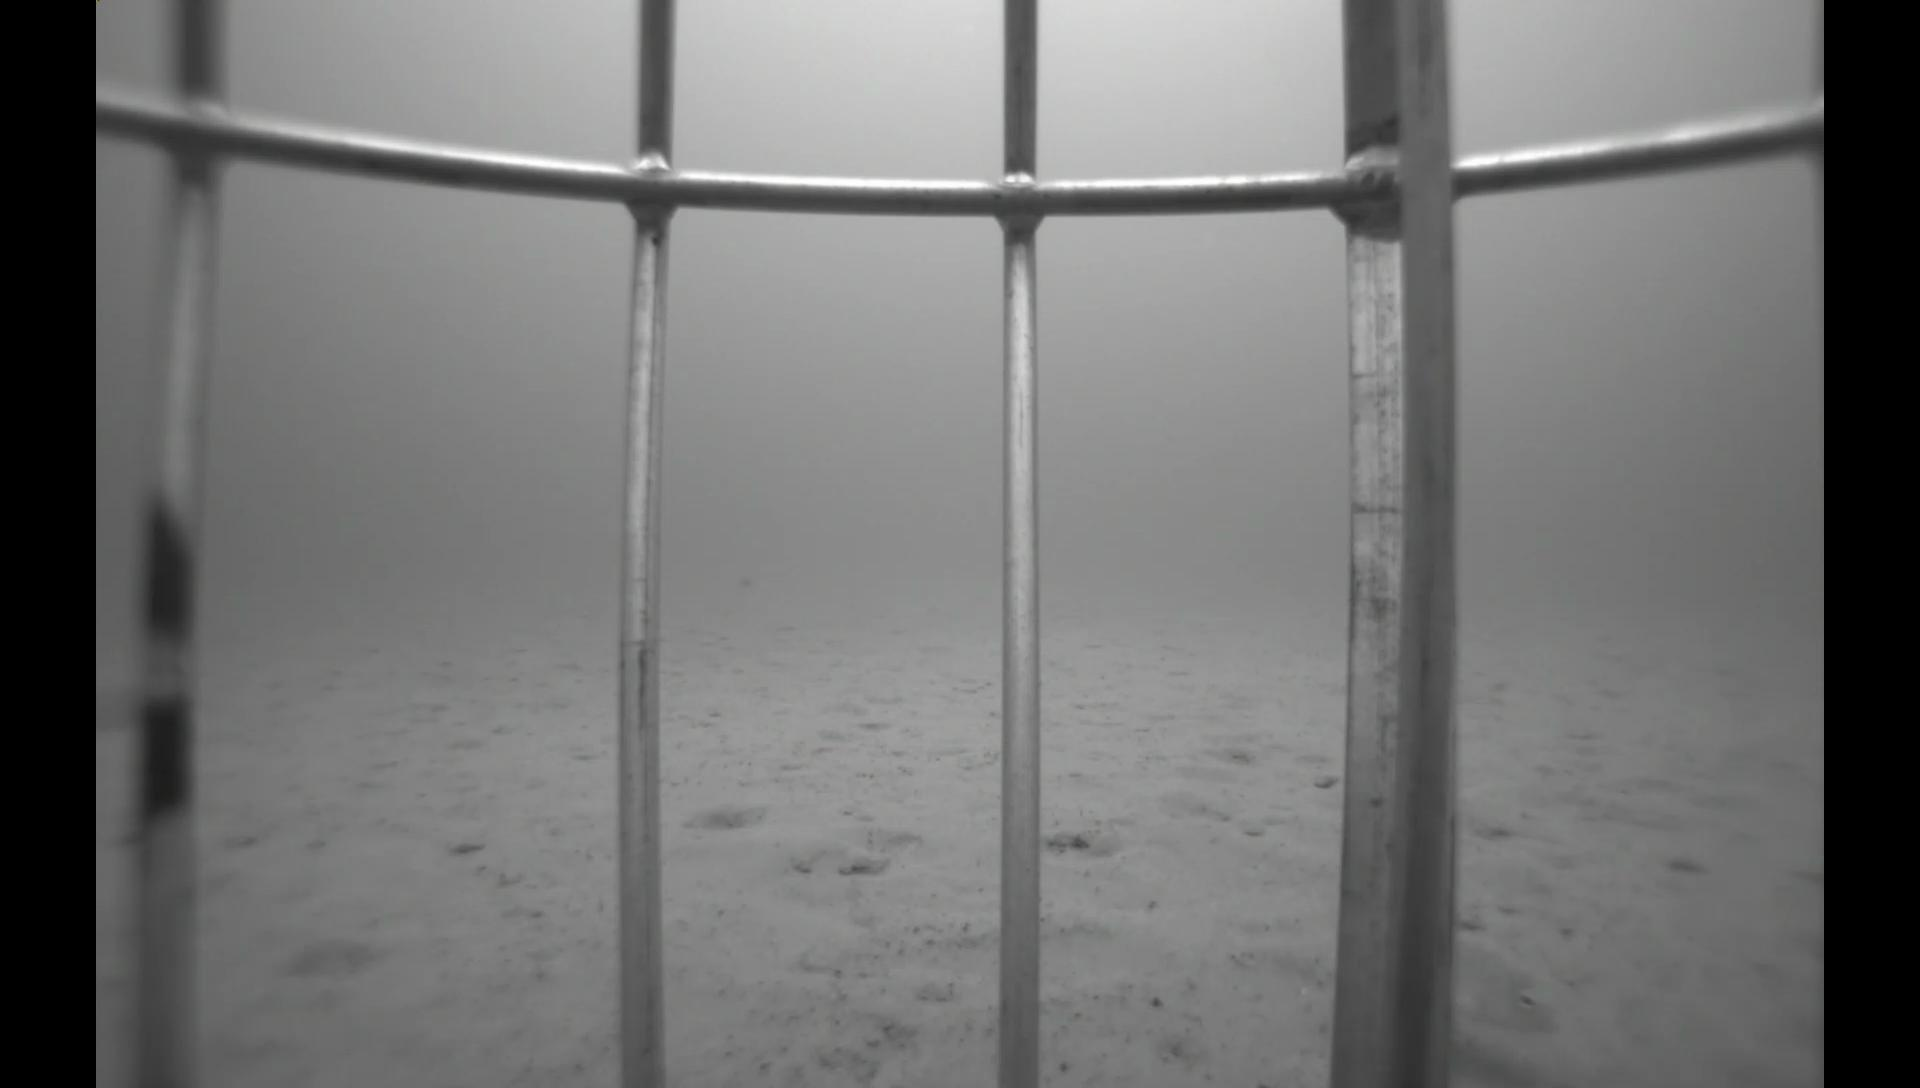CAULOLATILUSCYANOPS-170070101: (1456, 669, 1513, 717)
PRISTIPOMOIDES-170151800: (1291, 873, 1576, 1047)
